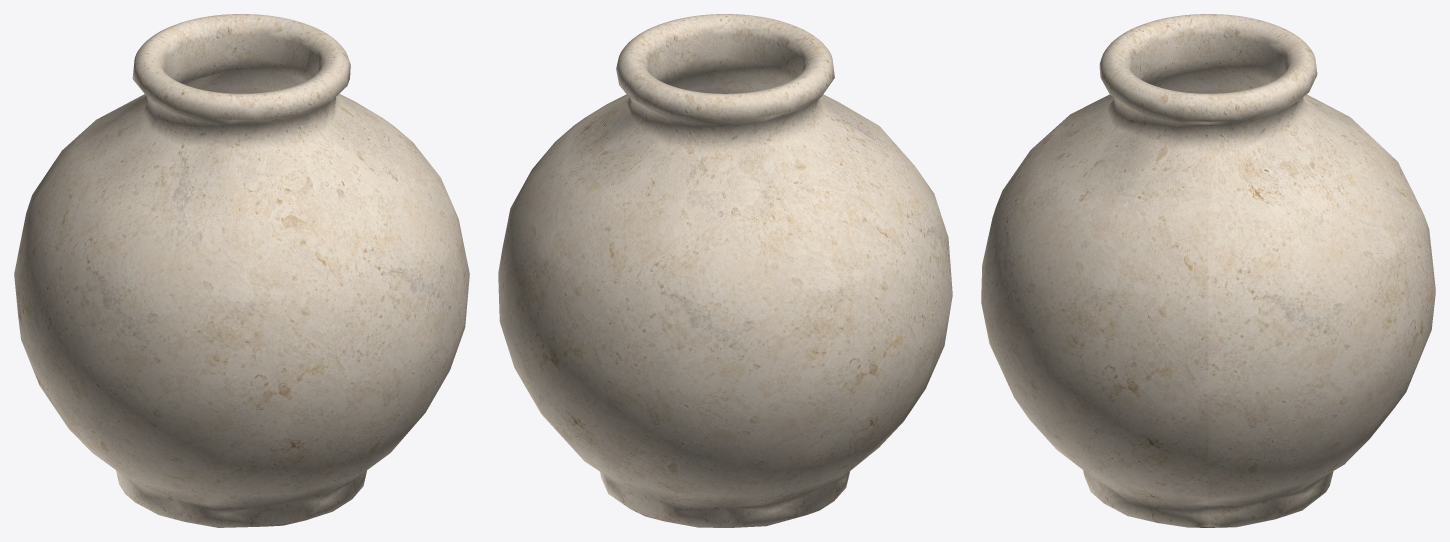
Rendered from boop-vase-large-white-detail.glb.
3 views of the same model, side by side, from view 1: azimuth 30°, elevation 25°; view 2: azimuth 150°, elevation 25°; view 3: azimuth 270°, elevation 25° (orthographic).
Parts seen in each view (by area): view 1: boop-vase-large-white-detail; view 2: boop-vase-large-white-detail; view 3: boop-vase-large-white-detail.
Part boxes in pixels (<box>): boop-vase-large-white-detail: <box>14,14,469,527</box>; boop-vase-large-white-detail: <box>498,14,952,527</box>; boop-vase-large-white-detail: <box>981,14,1435,527</box>.
Bounding box in the file's own units: 0.0322 × 0.033 × 0.0322.
Materials: 1 (1 with a texture image).
